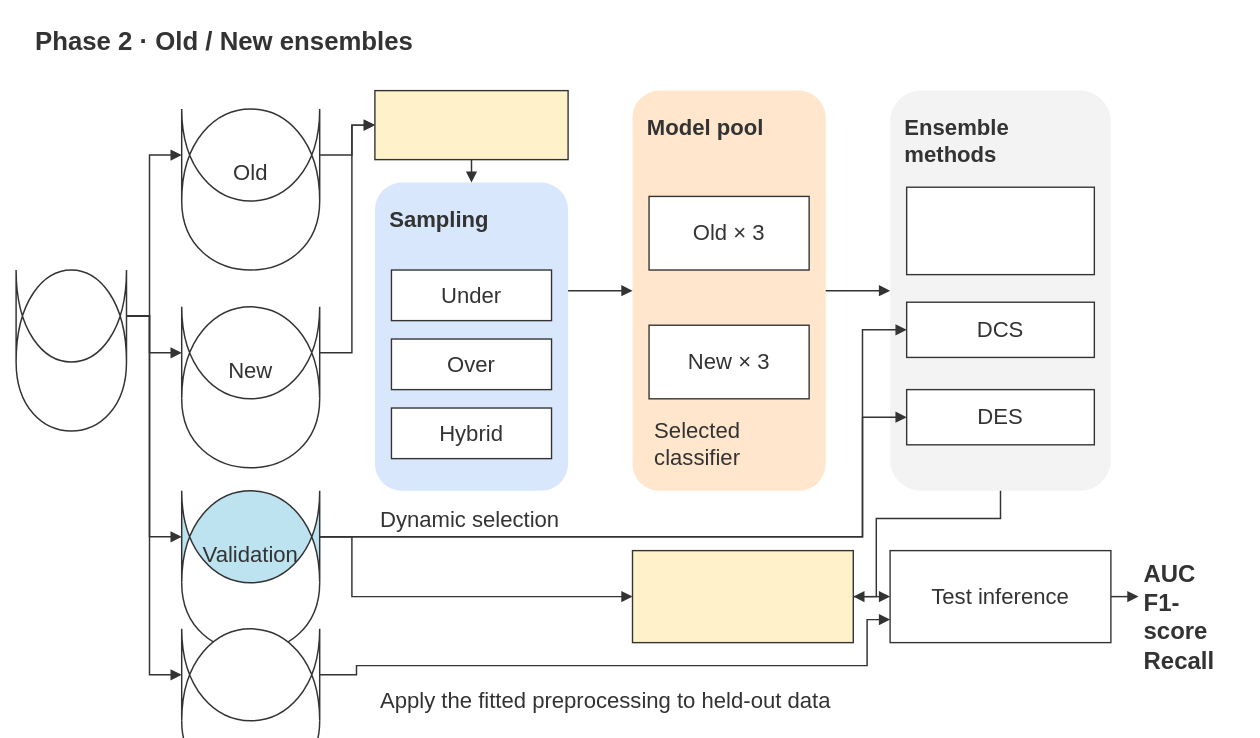
Image size: 1260x738. Some labels were removed from this diagram. Each missing label, with the box of its shape:
Original Dataset: (15, 269, 127, 362)
Preprocess: (374, 90, 568, 160)
Static 49 mixed subsets: (906, 186, 1095, 275)
Test: (181, 628, 320, 721)
Validation choices fixed: (631, 550, 854, 643)
